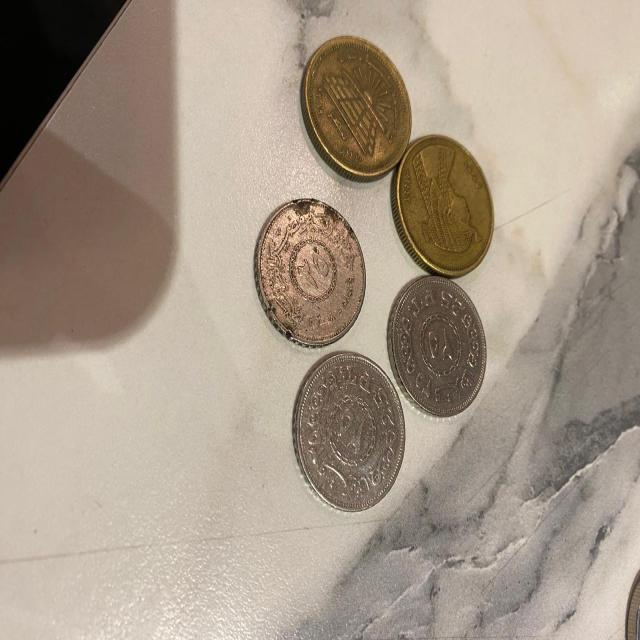Half Pound: (302, 36, 412, 182), (399, 137, 499, 276)
quarter pound: (293, 353, 406, 512), (250, 197, 370, 346), (388, 275, 489, 415)
